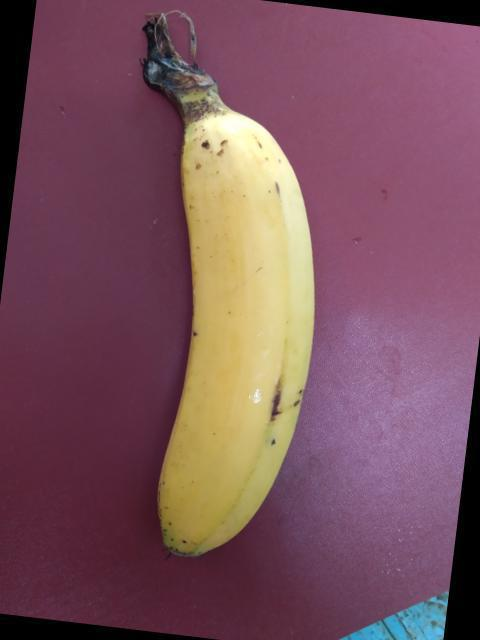freshripe: (133, 105, 335, 597)
